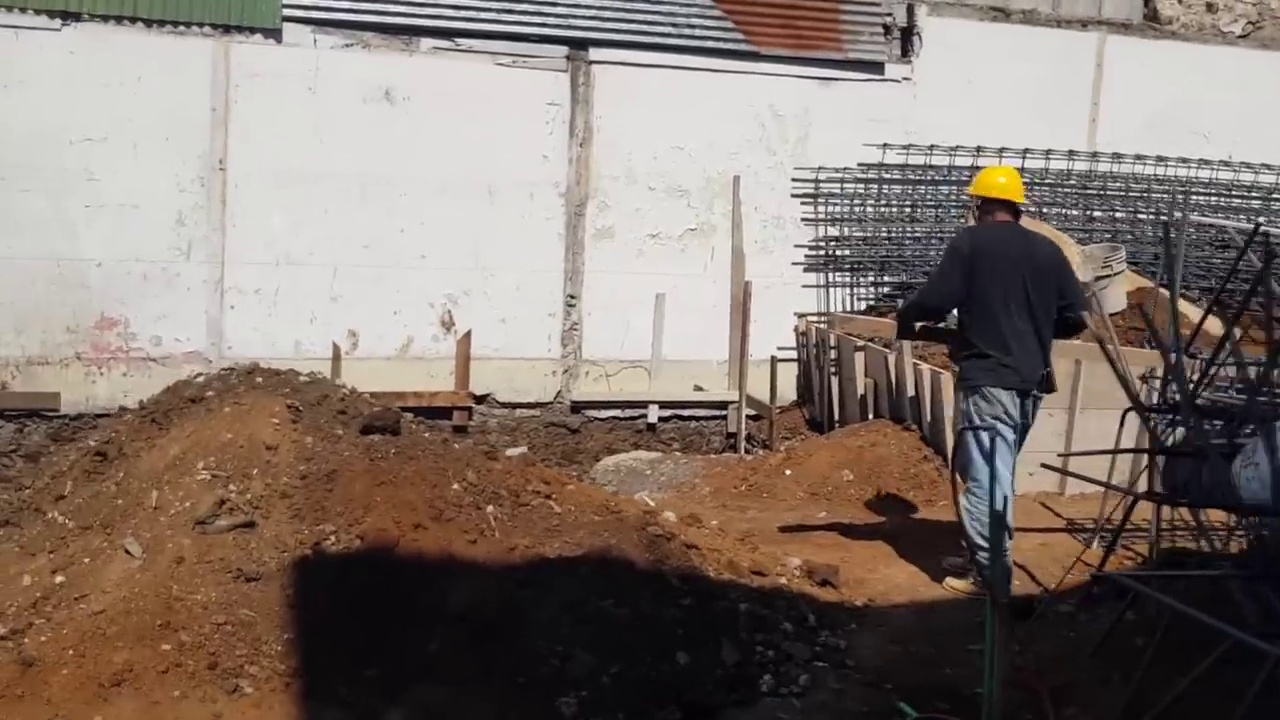helmet: (966, 162, 1033, 209)
helmet-on: (971, 166, 1035, 239)
person: (889, 150, 1105, 600)
